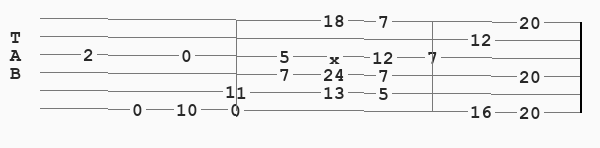0: (132, 102, 147, 118), (181, 48, 196, 64), (230, 102, 245, 118)
10: (176, 102, 202, 118)
11: (225, 84, 251, 100)
12: (372, 48, 398, 64), (470, 30, 496, 46)
13: (323, 84, 349, 100)
16: (470, 102, 496, 118)
18: (323, 12, 349, 28)
2: (83, 48, 98, 64)
20: (519, 66, 545, 82), (519, 12, 545, 28), (519, 102, 545, 118)
24: (323, 66, 349, 82)
5: (279, 48, 294, 64), (378, 84, 393, 100)
7: (279, 66, 294, 82), (378, 12, 393, 28), (378, 66, 393, 82), (427, 48, 442, 64)
x: (329, 50, 344, 62)
